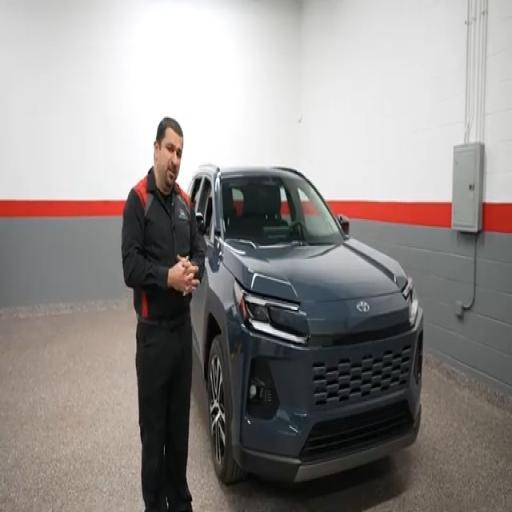bumper: (231, 309, 423, 482), (236, 406, 421, 483)
door: (191, 177, 212, 356), (191, 291, 201, 348)
emblem: (356, 301, 369, 312)
fog_light: (249, 384, 257, 399)
grille: (301, 402, 413, 462), (312, 345, 411, 405)
headlight: (234, 282, 308, 344), (403, 278, 418, 325)
hood: (224, 239, 406, 302)
side_mirror: (339, 215, 349, 236), (196, 212, 204, 234)
wheel: (208, 336, 244, 484)
window: (191, 177, 212, 236)
windshield: (221, 174, 343, 246)
